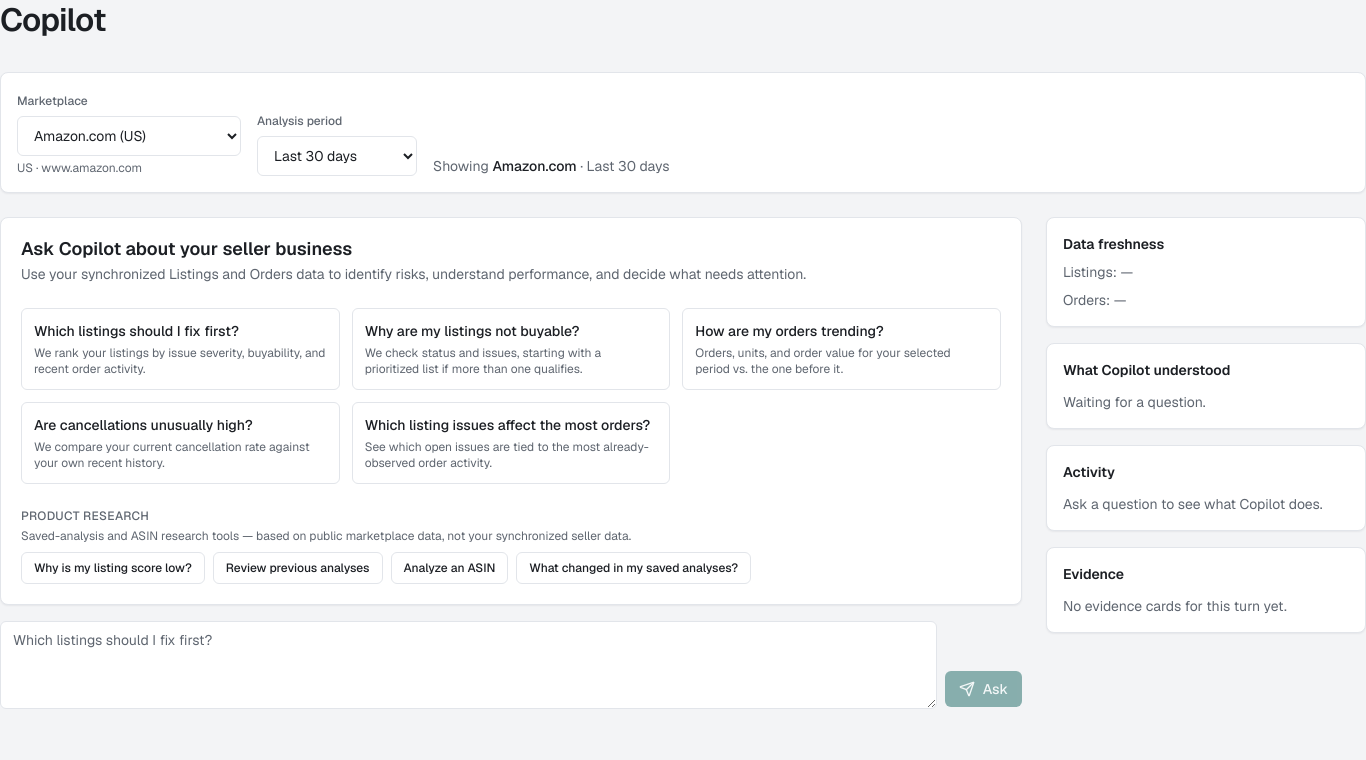
Test: SellerCopilot — launch skill cards › runs a launch skill card end to end and renders a six-section evidence-backed answer
Step 1. Click the text "Which listings should I fix first?" → (136, 331), box [34, 322, 239, 340]
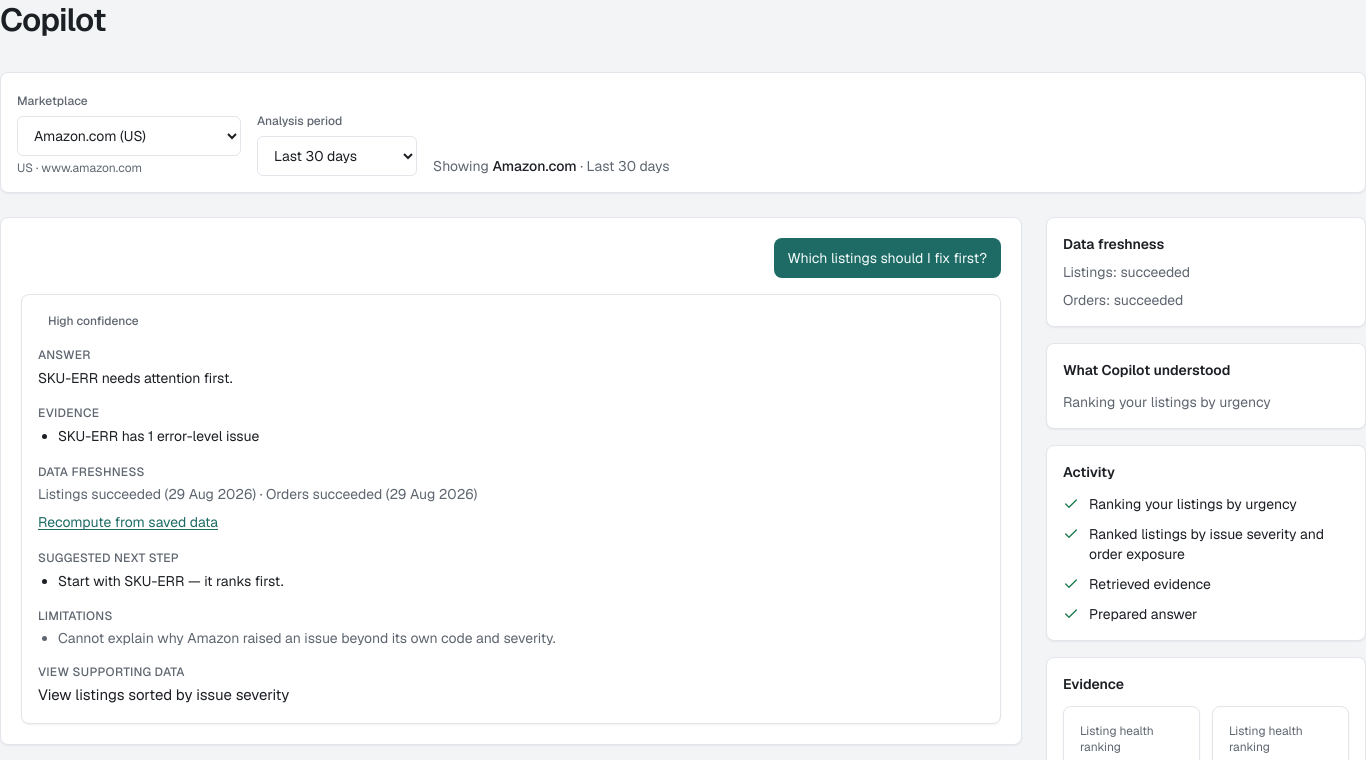
Expected: the text "SKU-ERR needs attention first." is shown, [38, 368, 233, 386]
Expected: the heading "Answer" is shown, [38, 346, 91, 362]
Expected: the heading "Evidence" below "SKU-ERR needs attention first." is shown, [38, 405, 99, 421]
